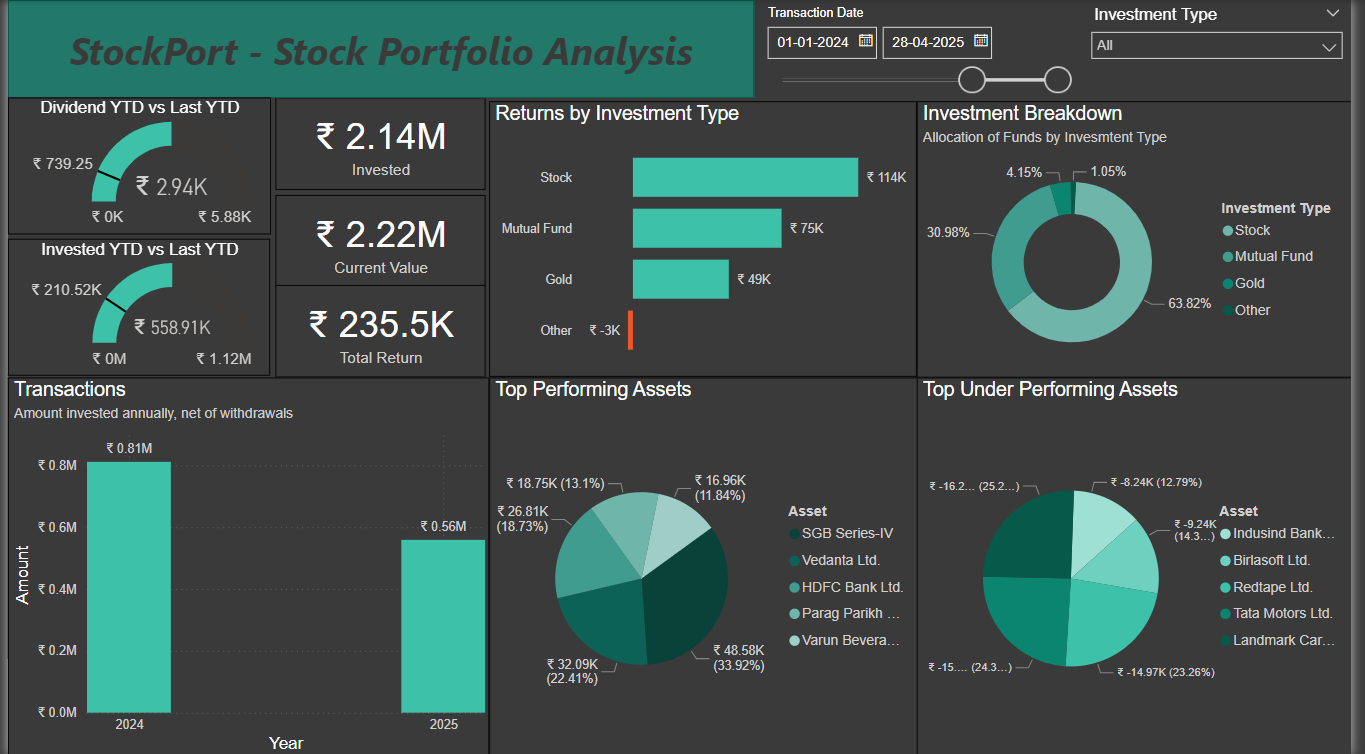

What the dashboard file says about the page in this screenshot:
{"tool":"powerbi","page":{"name":"Overview","canvas":[1280,720],"ordinal":0},"visuals":[{"type":"columnChart","title":"Transactions","fields":{"Category":["Append1.Transaction Date.Variation.Date Hierarchy.Year","Append1.Transaction Date.Variation.Date Hierarchy.Month","Append1.Transaction Date.Variation.Date Hierarchy.Day"],"Y":["Sum(Append1.Amount(Credits/Debits))"]},"box":[0,359.5,458.3,360.9],"z":2000},{"type":"card","fields":{"Values":["Sum(Current Value.Current Value)"]},"box":[254.5,185.2,200,87.8],"z":3000},{"type":"card","fields":{"Values":["Sum(Current Value.Total cost)"]},"box":[254.5,93.3,200,87.8],"z":4000},{"type":"donutChart","title":"Investment Breakdown","fields":{"Category":["Current Value.Investment Type"],"Y":["Sum(Current Value.Current Value)"]},"box":[865.5,96.4,414.3,263.1],"z":5000},{"type":"card","fields":{"Values":["Sum(Current Value.Total Return)"]},"box":[254.5,271.7,200,87.8],"z":6000},{"type":"slicer","fields":{"Values":["Append1.Transaction Date"]},"box":[710.8,0,310.1,93.3],"z":7000},{"type":"pieChart","title":"Top Performing Assets","fields":{"Category":["Current Value.Fund Name"],"Y":["Sum(Current Value.Total Return)"]},"box":[458.3,359.5,408.9,360.9],"z":8000},{"type":"barChart","title":"Returns by Investment Type","fields":{"Category":["Current Value.Investment Type"],"Y":["Sum(Current Value.Total Return)"]},"box":[458.3,96.1,407.5,262.1],"z":9000},{"type":"pieChart","title":"Top Under Performing Assets","fields":{"Category":["Current Value.Fund Name"],"Y":["Sum(Current Value.Total Return)"]},"box":[865.9,359.5,414.4,360.9],"z":10000},{"type":"shape","box":[0,0,710.8,93.3],"z":12000},{"type":"slicer","fields":{"Values":["Append1.Investment Type"]},"box":[1020.9,0,259.3,94.7],"z":13000},{"type":"gauge","title":"Dividend YTD vs Last YTD","fields":{"TargetValue":["Append1.Last YEAR YTD"],"Y":["Append1.YTD Dividend"]},"box":[0,93.3,250,130.4],"z":13500},{"type":"gauge","title":"Invested YTD vs Last YTD","fields":{"Y":["Append1.YTD Investment"],"TargetValue":["Append1.Last YTD Investment"]},"box":[0,227.8,249.7,130.4],"z":14000}]}

Visuals, with their boxes in screenshot pixels (x1, y1, x2, y2), scaled from the page's 1280x720 canvas onto the 1365x754 screenshot:
"Transactions" columnChart: rect(0, 376, 489, 753)
card - Sum(Current Value.Current Value): rect(271, 194, 485, 286)
card - Sum(Current Value.Total cost): rect(271, 98, 485, 190)
"Investment Breakdown" donutChart: rect(923, 101, 1364, 376)
card - Sum(Current Value.Total Return): rect(271, 285, 485, 376)
slicer - Append1.Transaction Date: rect(758, 0, 1089, 98)
"Top Performing Assets" pieChart: rect(489, 376, 925, 753)
"Returns by Investment Type" barChart: rect(489, 101, 923, 375)
"Top Under Performing Assets" pieChart: rect(923, 376, 1364, 753)
shape: rect(0, 0, 758, 98)
slicer - Append1.Investment Type: rect(1089, 0, 1364, 99)
"Dividend YTD vs Last YTD" gauge: rect(0, 98, 267, 234)
"Invested YTD vs Last YTD" gauge: rect(0, 239, 266, 375)
